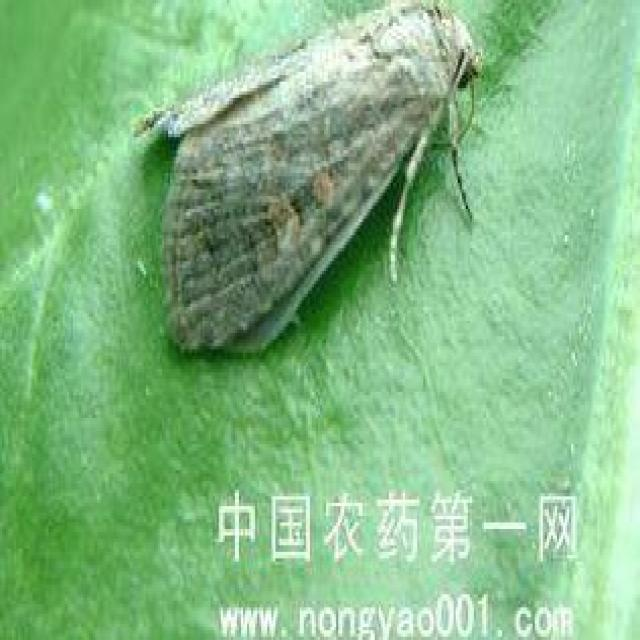BeetArmyWorm-Adult-: (137, 3, 488, 363)
